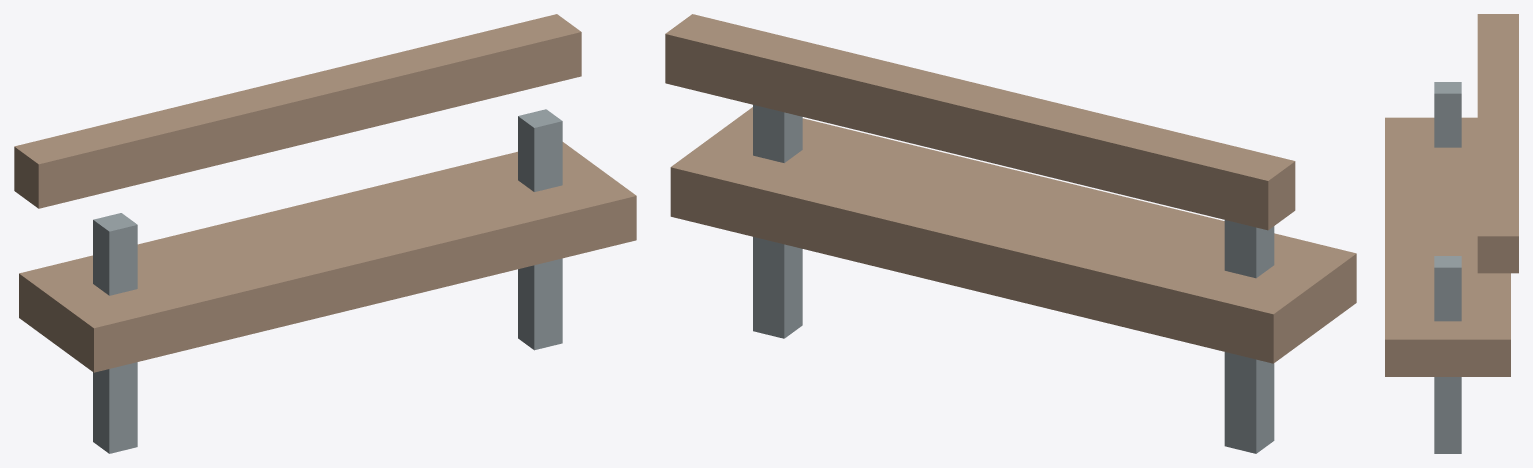
File: park_bench.glb
3 views of the same model, side by side, from view 1: azimuth 30°, elevation 25°; view 2: azimuth 150°, elevation 25°; view 3: azimuth 270°, elevation 25° (orthographic). The views are drawn at different scales.
Parts seen in each view (by area): view 1: part_00, part_01, part_03, part_02; view 2: part_00, part_01, part_02, part_03; view 3: part_00, part_01, part_03, part_02.
Part boxes in pixels (<box>): part_00: <box>19,142,636,372</box>; part_01: <box>14,14,581,208</box>; part_03: <box>518,109,562,350</box>; part_02: <box>93,213,137,453</box>; part_00: <box>670,107,1356,363</box>; part_01: <box>665,14,1295,230</box>; part_02: <box>1224,220,1274,453</box>; part_03: <box>753,105,802,338</box>; part_00: <box>1385,117,1510,376</box>; part_01: <box>1477,14,1518,273</box>; part_03: <box>1434,256,1461,453</box>; part_02: <box>1434,82,1461,147</box>.
Size of the model in its own units: 2.3 by 1.14 by 0.585.
